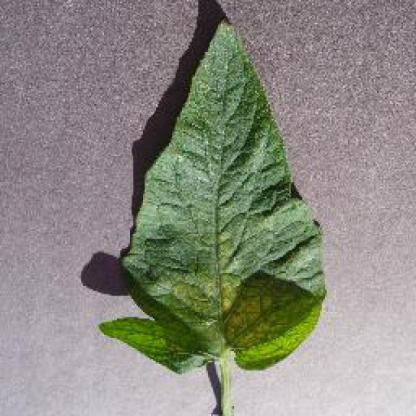Tomato_Spider_Mites: (102, 22, 324, 371)
